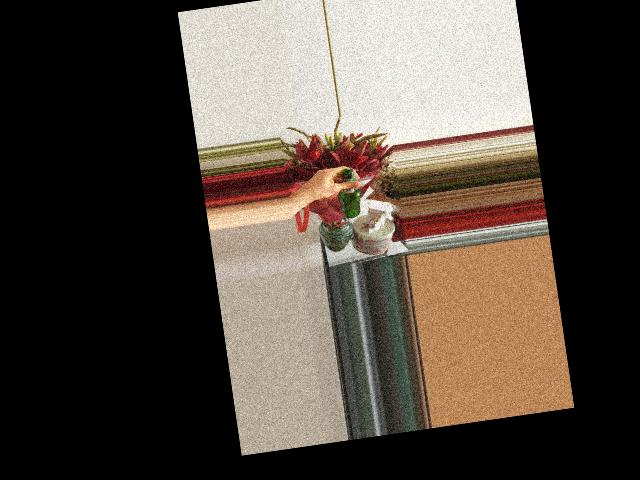beer: (335, 167, 364, 219)
